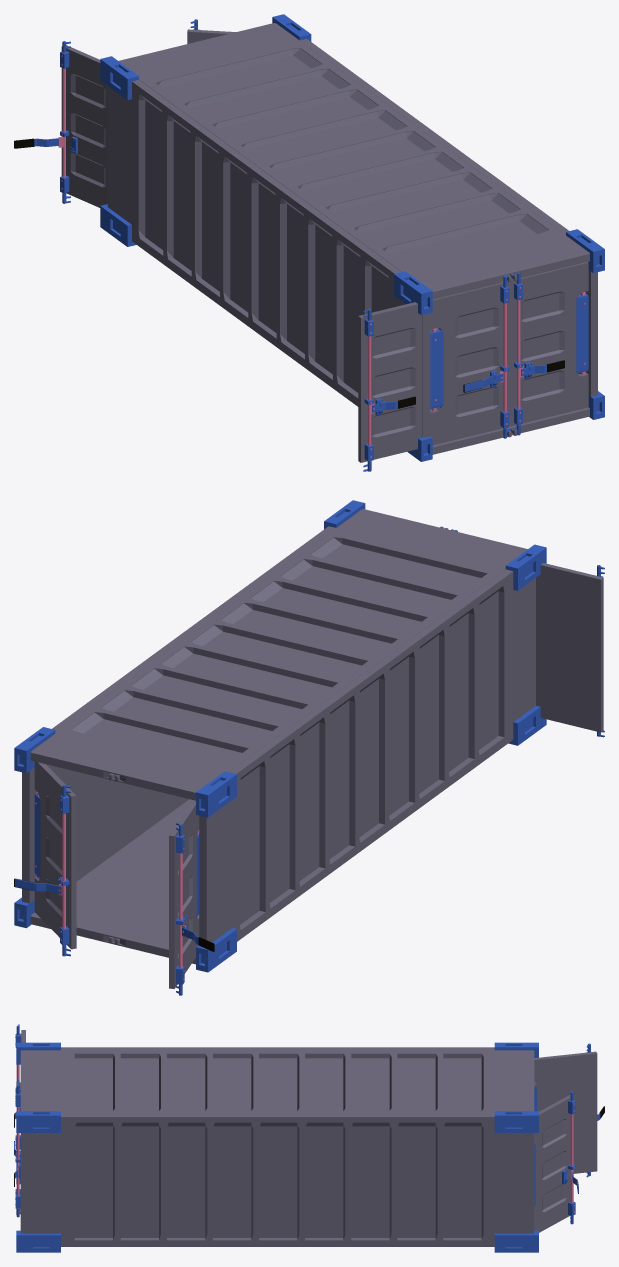
Rendered from shipping_container.glb.
The picture shows the model from 3 angles, top to bottom: view 1: azimuth 30°, elevation 25°; view 2: azimuth 150°, elevation 25°; view 3: azimuth 270°, elevation 25°; orthographic projection. The views are drawn at different scales.
Parts seen in each view (by area): view 1: Metal Face_13, Metal Face.002_7, Door.002_24, Door_77, Door.001_105, Door.004_51, Metal Face.003_12, Metal Face.001_2, Lift Mount Top R_6, Lift Mount Top L_5, Door Hinge_78, Door Hinge.002_23 (+2 smaller); view 2: Metal Face.002_7, Metal Face_13, Metal Face.003_12, Door.001_105, Metal Face.001_2, Door.003_132, Door.004_51, Lift Mount Top L_5, Lift Mount Top R_6, Lift Mount Bottom L_3, Lift Mount Top R.001_11, Lift Mount Bottom R_4; view 3: Metal Face.003_12, Metal Face_13, Door.004_51, Door.003_132, Metal Face.002_7, Lift Mount Top L.001_10, Lift Mount Top R.001_11, Lift Mount Bottom L.001_8, Lift Mount Bottom R.001_9, Lift Mount Top R_6, Lift Mount Top L_5, Lock Cylinder.003_144.
Boxes of the visible parts, x1,y1,x2,y2 form: Metal Face_13: (119, 23, 589, 299); Metal Face.002_7: (107, 80, 430, 437); Door.002_24: (430, 282, 509, 445); Door_77: (510, 262, 588, 426); Door.001_105: (358, 302, 431, 462); Door.004_51: (61, 45, 107, 207); Metal Face.003_12: (300, 39, 597, 396); Metal Face.001_2: (430, 327, 589, 454); Lift Mount Top R_6: (394, 271, 432, 315); Lift Mount Top L_5: (100, 56, 138, 100); Door Hinge_78: (576, 293, 588, 373); Door Hinge.002_23: (431, 328, 443, 408); Metal Face.002_7: (199, 569, 535, 942); Metal Face_13: (30, 509, 527, 800); Metal Face.003_12: (22, 526, 335, 903); Door.001_105: (536, 563, 603, 732); Metal Face.001_2: (30, 799, 199, 964); Door.003_132: (34, 761, 76, 949); Door.004_51: (169, 800, 199, 988); Lift Mount Top L_5: (196, 771, 236, 817); Lift Mount Top R_6: (505, 544, 546, 590); Lift Mount Bottom L_3: (196, 928, 236, 972); Lift Mount Top R.001_11: (14, 727, 55, 773); Lift Mount Bottom R_4: (508, 706, 546, 745); Metal Face.003_12: (20, 1114, 534, 1246); Metal Face_13: (20, 1050, 534, 1113); Door.004_51: (534, 1051, 597, 1173); Door.003_132: (534, 1095, 570, 1232); Metal Face.002_7: (61, 1047, 494, 1050); Lift Mount Top L.001_10: (16, 1111, 60, 1132); Lift Mount Top R.001_11: (494, 1111, 538, 1132); Lift Mount Bottom L.001_8: (16, 1230, 60, 1252); Lift Mount Bottom R.001_9: (494, 1230, 538, 1252); Lift Mount Top R_6: (16, 1042, 60, 1064); Lift Mount Top L_5: (494, 1042, 538, 1057); Lock Cylinder.003_144: (570, 1101, 573, 1215).
Bounding box in the file's own units: 3.19 × 2.13 × 8.34.
